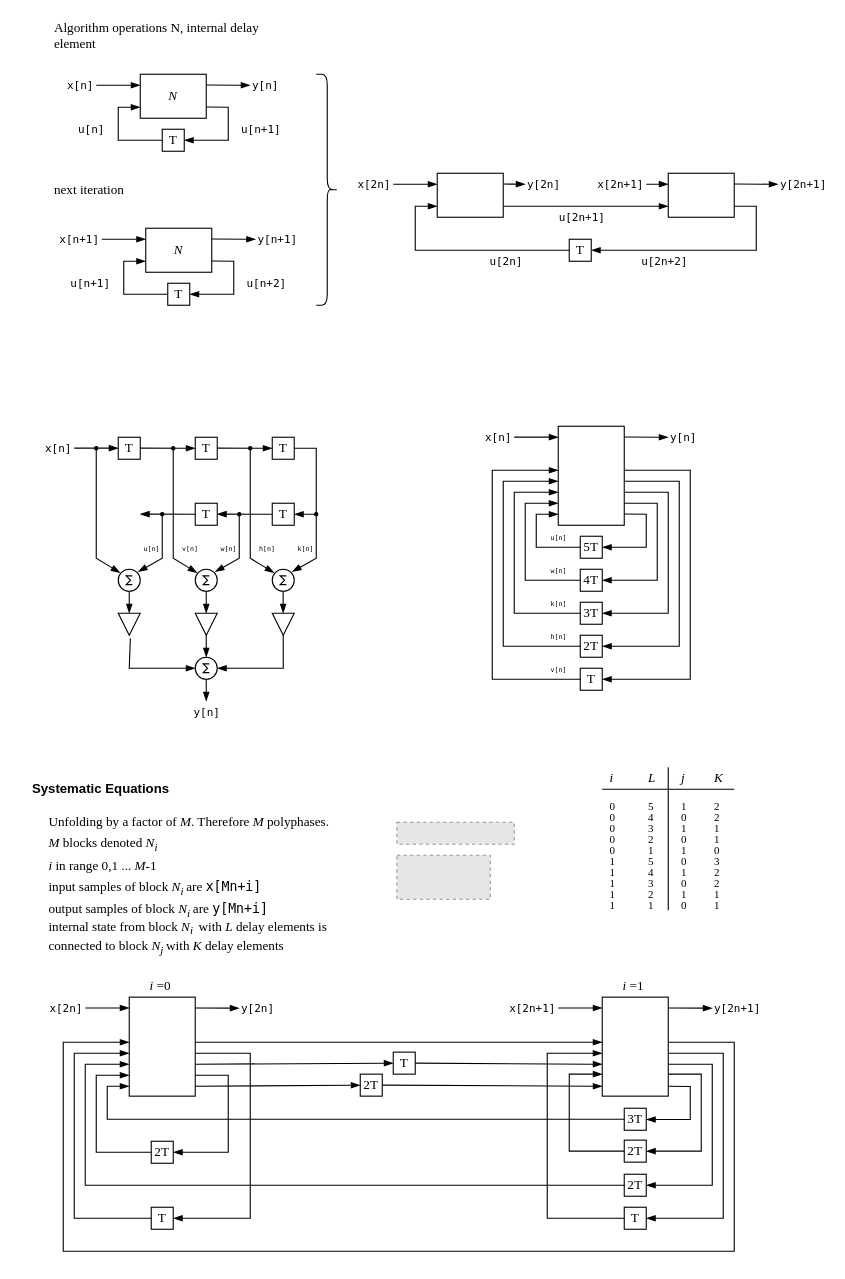
This 845x1279 diagram has some shape labels left out. Grey dashed boxes stand in for pictures. Here are the shapes that lost their labels. From the top down, the centre of each, then its label:
At (469,194): "N 0".
At (700,194): "N 1".
At (590,475): "FIR".
At (161,1046): "FIR 0".
At (634,1046): "FIR 1".
